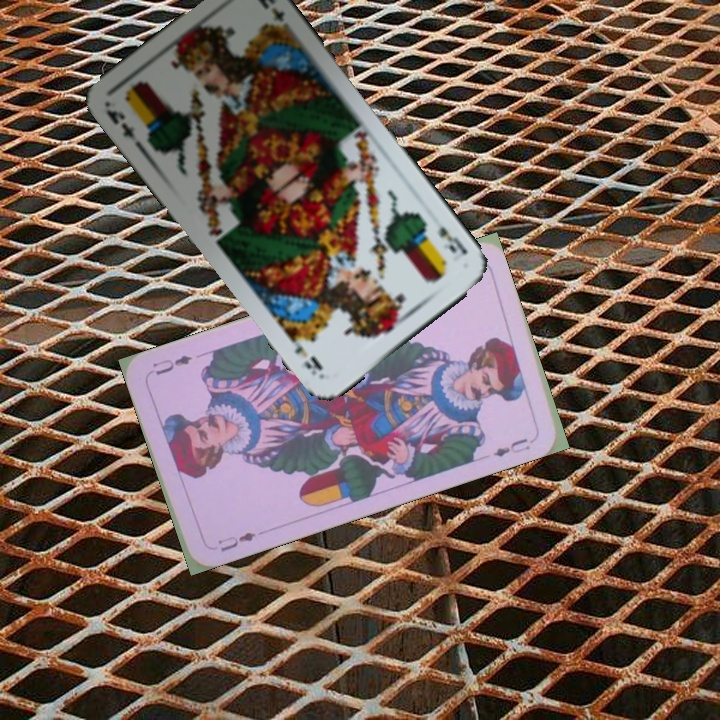EK: (102, 105, 146, 152), (434, 222, 470, 257)
EU: (213, 527, 259, 554)
